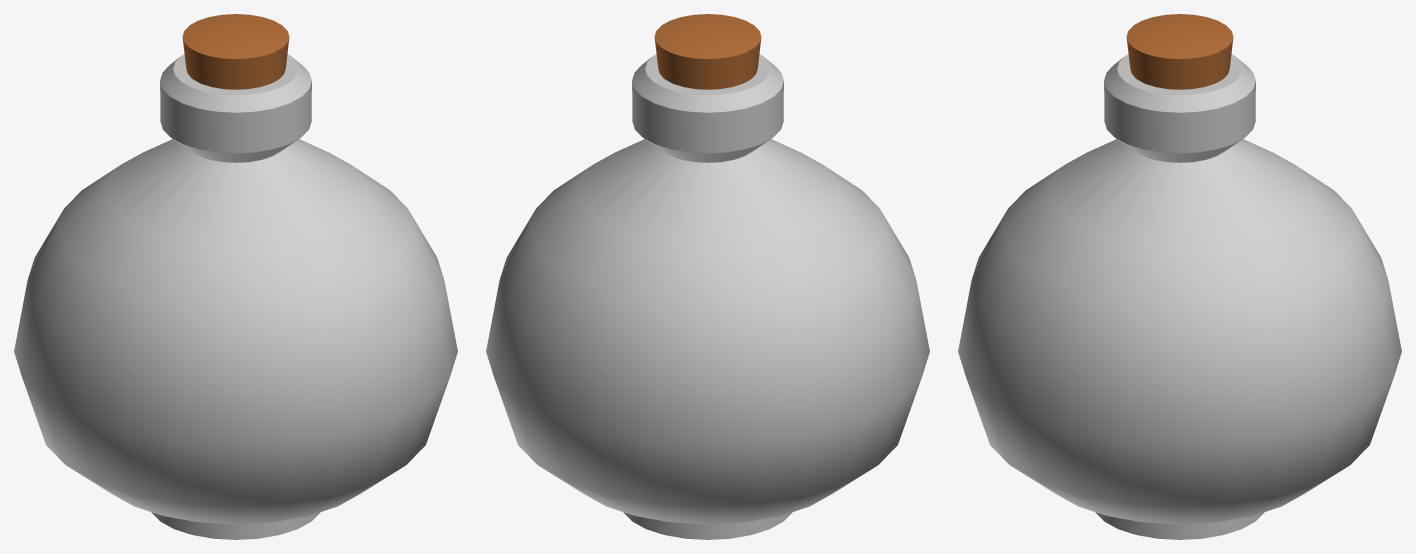
Rendered from potionLarge_blue.obj.
The picture shows the model from 3 angles, left to right: view 1: azimuth 30°, elevation 25°; view 2: azimuth 150°, elevation 25°; view 3: azimuth 270°, elevation 25°; orthographic projection.
Visible parts, largest first — view 1: potionLarge_blue_Cylinder.170; view 2: potionLarge_blue_Cylinder.170; view 3: potionLarge_blue_Cylinder.170.
Boxes of the visible parts, x1,y1,x2,y2 form: potionLarge_blue_Cylinder.170: [14, 14, 457, 539]; potionLarge_blue_Cylinder.170: [486, 14, 929, 539]; potionLarge_blue_Cylinder.170: [958, 14, 1401, 539].
Bounding box in the file's own units: 1 × 1.18 × 1.
